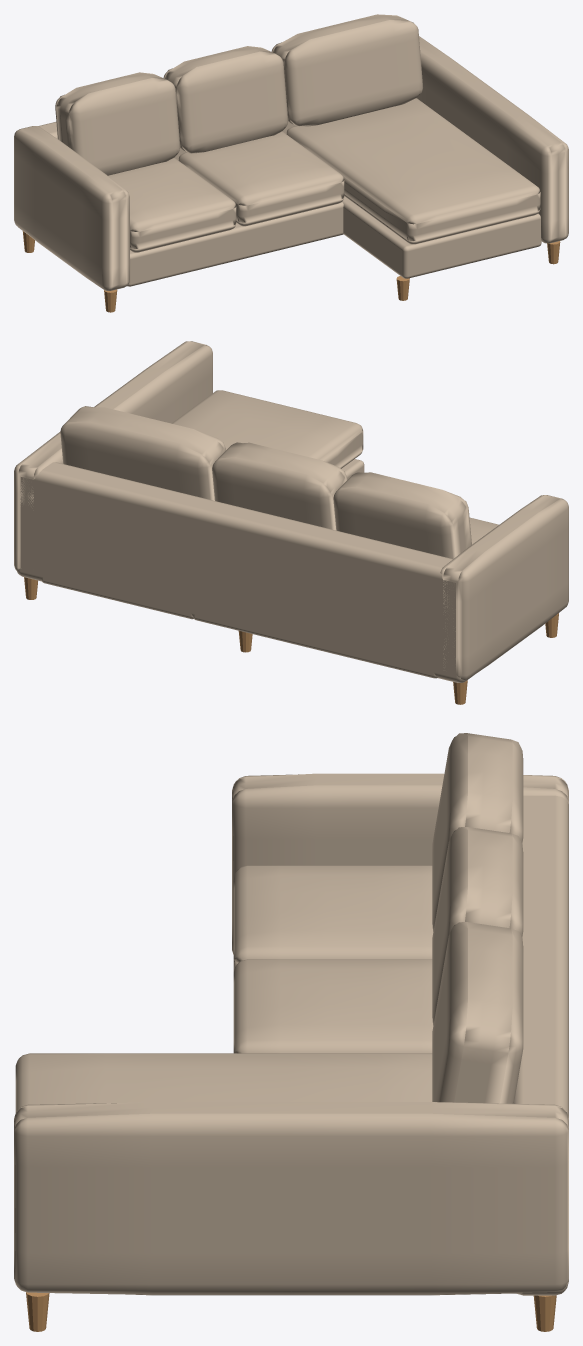
File: sofa_l_right__s.glb
The picture shows the model from 3 angles, top to bottom: view 1: azimuth 30°, elevation 25°; view 2: azimuth 150°, elevation 25°; view 3: azimuth 270°, elevation 25°; orthographic projection. The views are drawn at different scales.
Visible parts, largest first — view 1: sofa_l_right__s; view 2: sofa_l_right__s; view 3: sofa_l_right__s.
Part boxes in pixels (<box>): sofa_l_right__s: <box>14,14,568,312</box>; sofa_l_right__s: <box>14,341,568,704</box>; sofa_l_right__s: <box>14,733,568,1331</box>.
Size of the model in its own units: 2.1 by 0.82 by 1.4.
